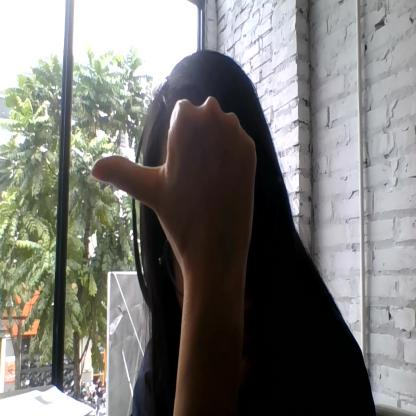right: (94, 91, 256, 269)
